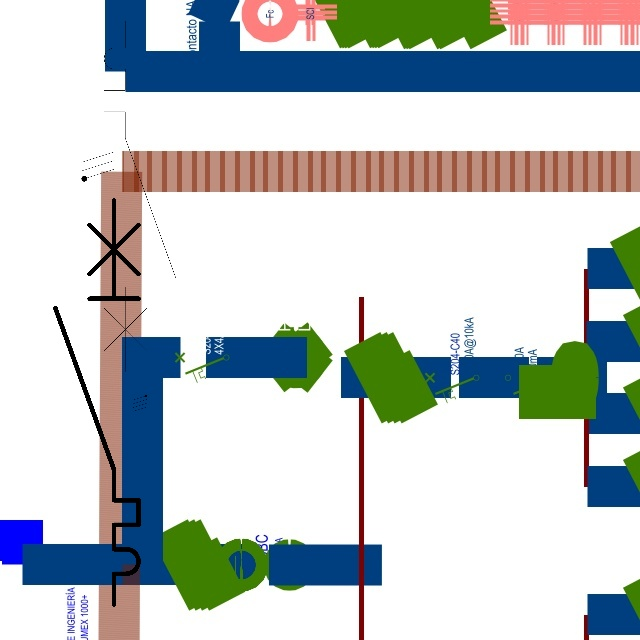interruptor_termomagnetico: (45, 190, 149, 614), (95, 12, 185, 381)
